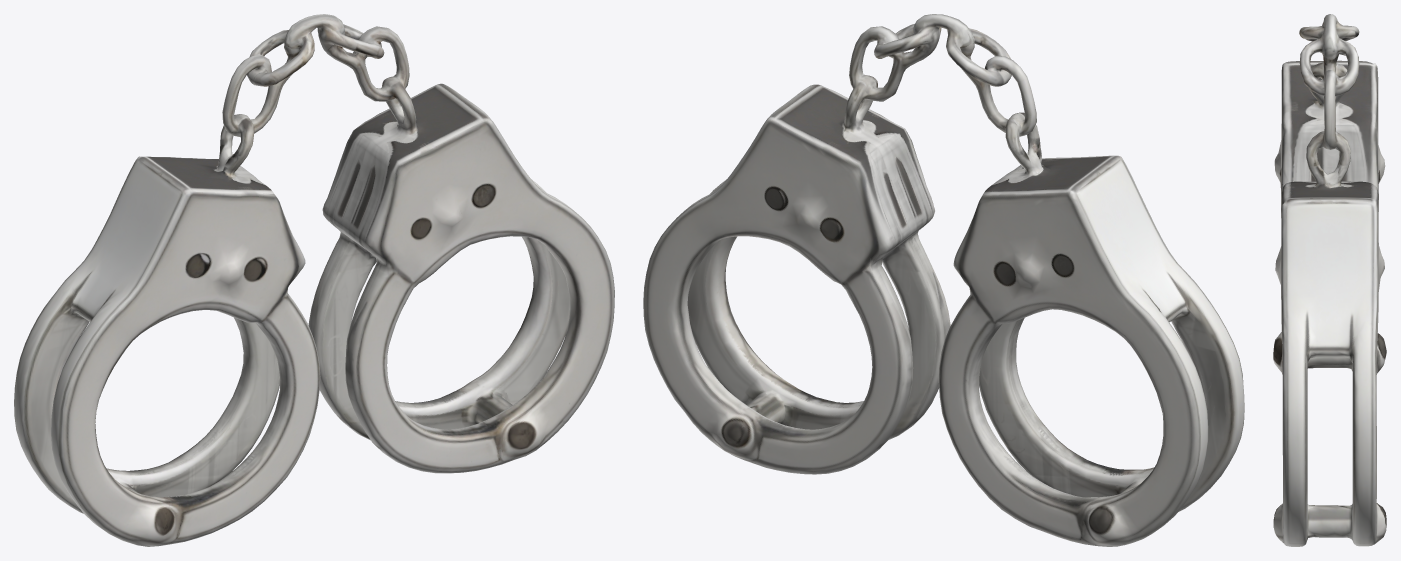
File: handcuffs.fbx
3 renders of one model, left to right at view 1: azimuth 30°, elevation 25°; view 2: azimuth 150°, elevation 25°; view 3: azimuth 270°, elevation 25°, orthographic. The views are drawn at different scales.
Parts seen in each view (by area): view 1: Mesh_0; view 2: Mesh_0; view 3: Mesh_0.
Part boxes in pixels (x1=…): Mesh_0: x1=14, y1=14, x2=614, y2=546; Mesh_0: x1=643, y1=14, x2=1244, y2=546; Mesh_0: x1=1273, y1=14, x2=1386, y2=546.
Size of the model in its own units: 201 by 163 by 37.83.
1 material, 1 textured.
